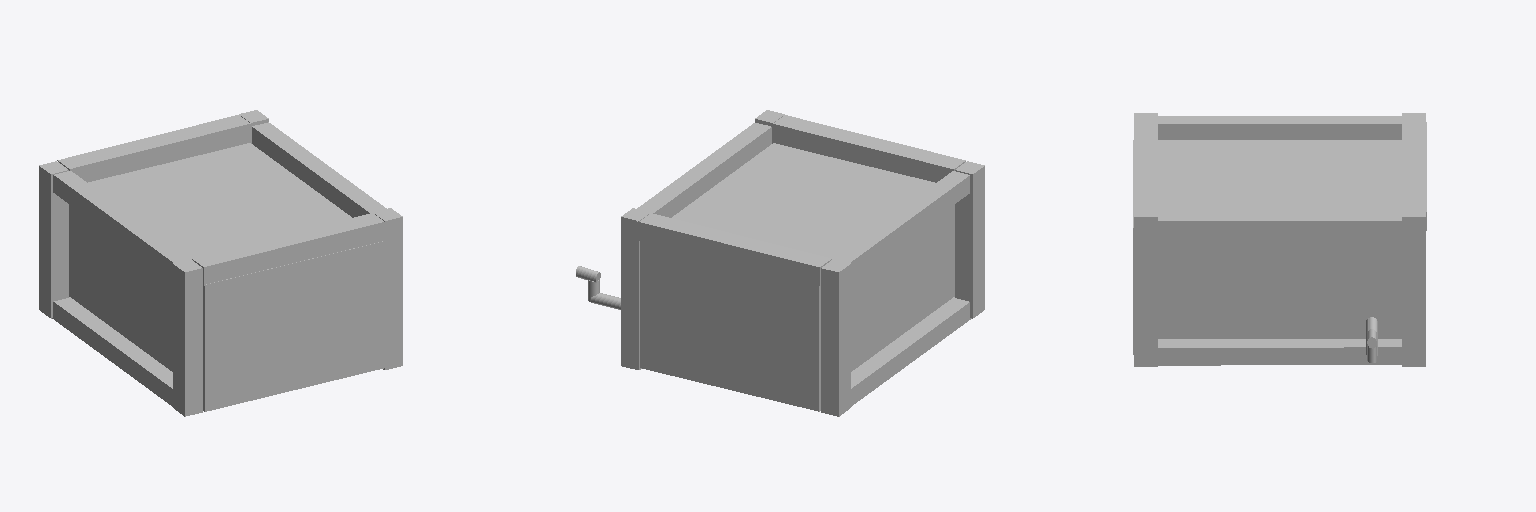
File: testgen.obj
The picture shows the model from 3 angles: view 1: azimuth 30°, elevation 25°; view 2: azimuth 150°, elevation 25°; view 3: azimuth 270°, elevation 25°; orthographic projection.
Parts seen in each view (by area): view 1: Cube; view 2: Cube, Cylinder.001; view 3: Cube, Cylinder.001.
Boxes of the visible parts, x1=… form: Cube: x1=39, y1=110, x2=402, y2=416; Cube: x1=621, y1=110, x2=984, y2=416; Cylinder.001: x1=576, y1=266, x2=620, y2=309; Cube: x1=1133, y1=113, x2=1426, y2=366; Cylinder.001: x1=1366, y1=317, x2=1377, y2=362.
Bounding box in the file's own units: 1.47 × 0.7264 × 1.29.